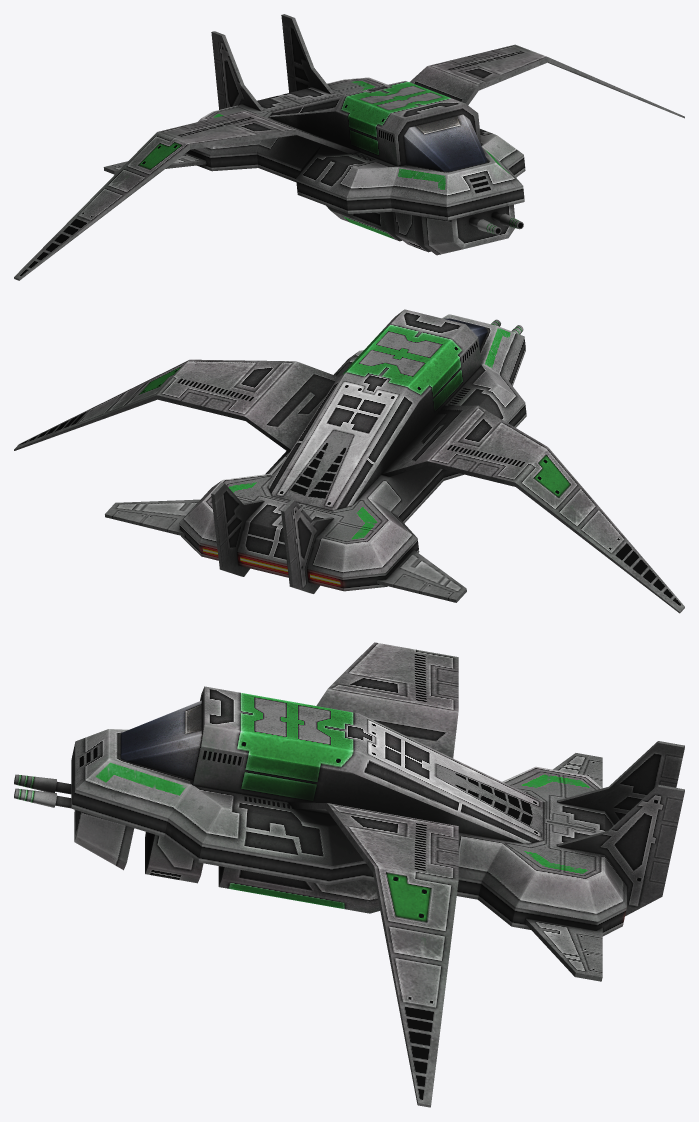
The model's file is gunship_green.fbx.
3 renders of one model, top to bottom at view 1: azimuth 30°, elevation 25°; view 2: azimuth 150°, elevation 25°; view 3: azimuth 270°, elevation 25°, orthographic. The views are drawn at different scales.
Parts seen in each view (by area): view 1: Gun_Ship; view 2: Gun_Ship; view 3: Gun_Ship.
Part boxes in pixels (x1,y1,x2,y2): Gun_Ship: (14, 14, 684, 280); Gun_Ship: (14, 309, 684, 613); Gun_Ship: (14, 642, 684, 1107).
Size of the model in its own units: 401 by 88.06 by 273.
